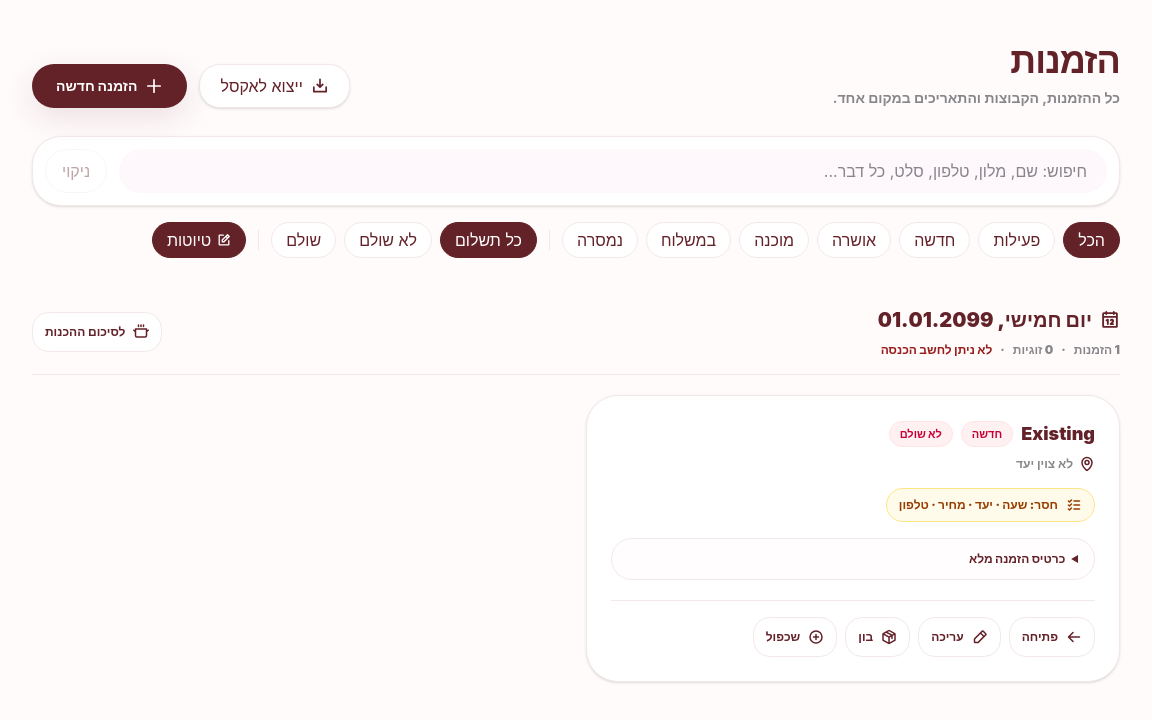
it: OrdersScreen › renders a query-specific no-result state as text rather than markup
Step 1. Type "<script>" into the search field named "חיפוש הזמנות" → (613, 171), box [119, 149, 1107, 193]
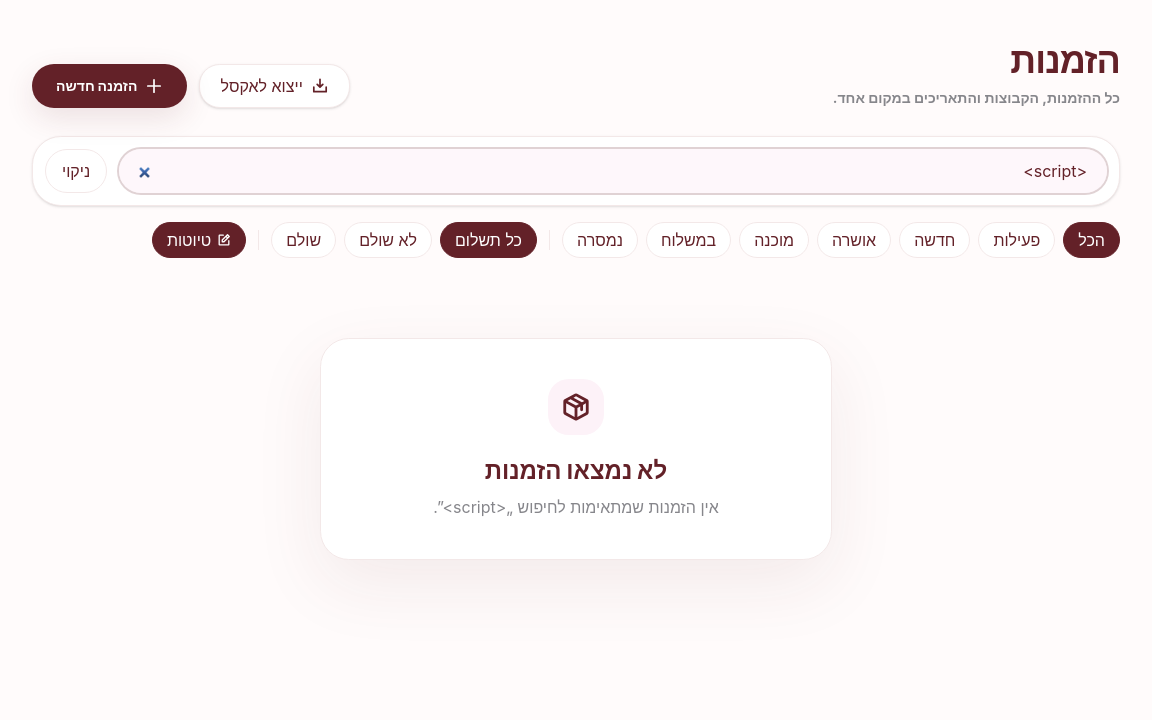
Now the heading "לא נמצאו הזמנות" is shown, box [485, 456, 667, 485]
Now the text "אין הזמנות שמתאימות לחיפוש „<script>”." is shown, box [433, 497, 719, 517]
